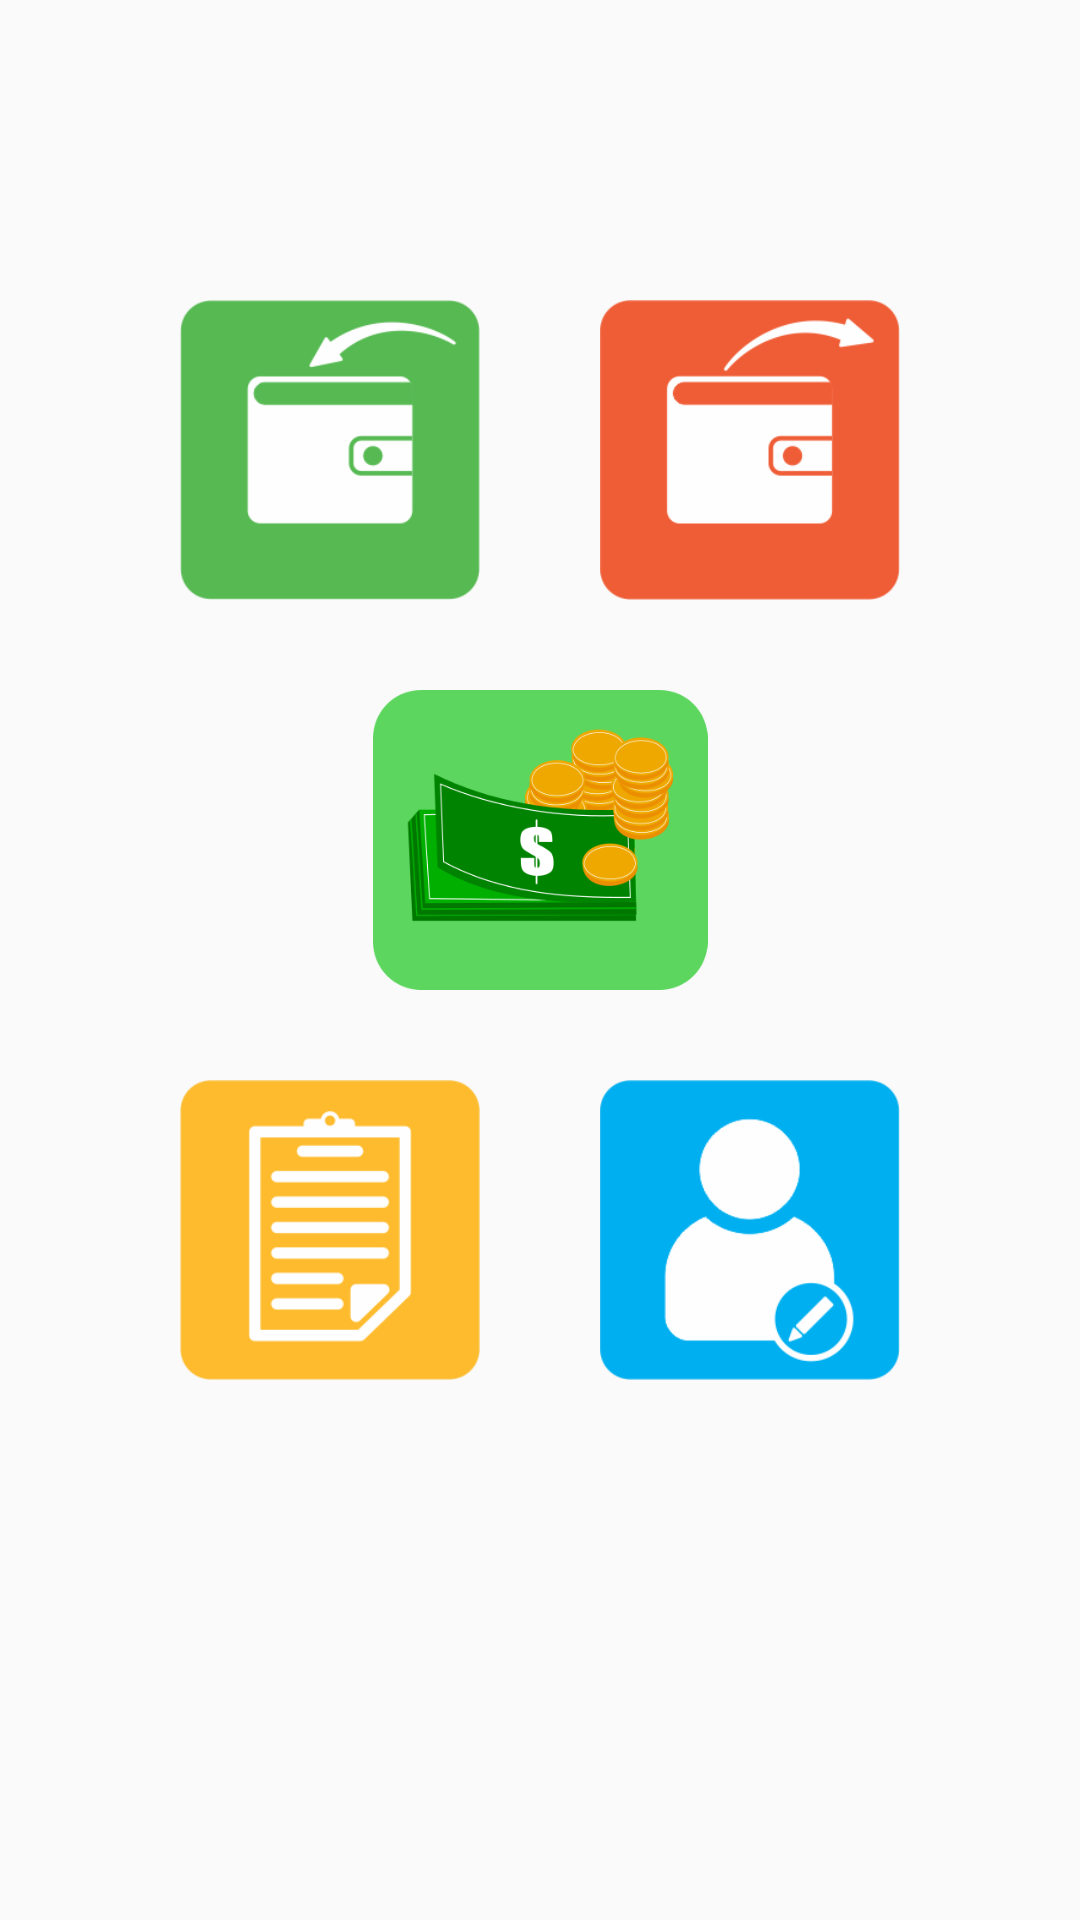

Icon click points for this 1080w x 1920h phone screenshot, format (x,y):
dollar: (540,840)
input: (330,450)
pengeluaran: (750,450)
profil: (750,1230)
uraian: (330,1230)
